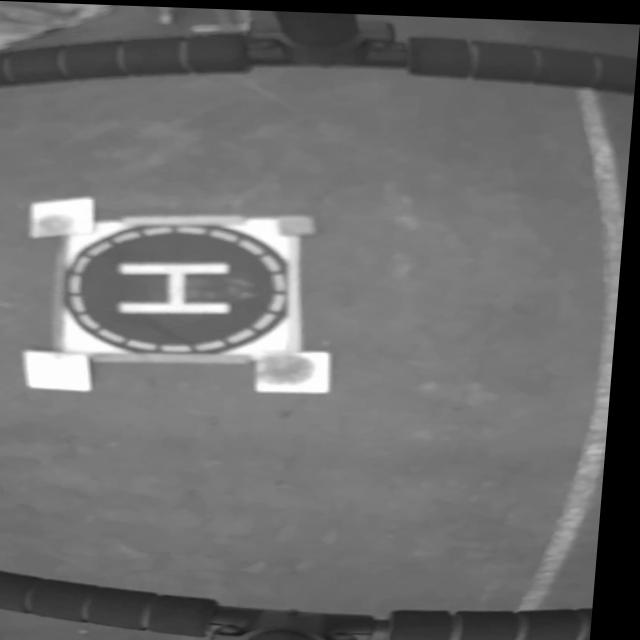Helipad: (121, 259, 236, 311)
